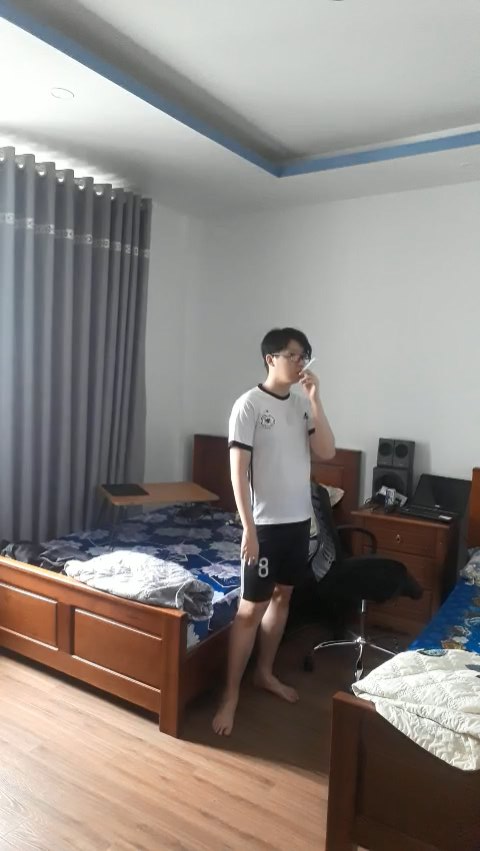cigarette: (302, 358, 316, 372)
person: (215, 314, 340, 744)
